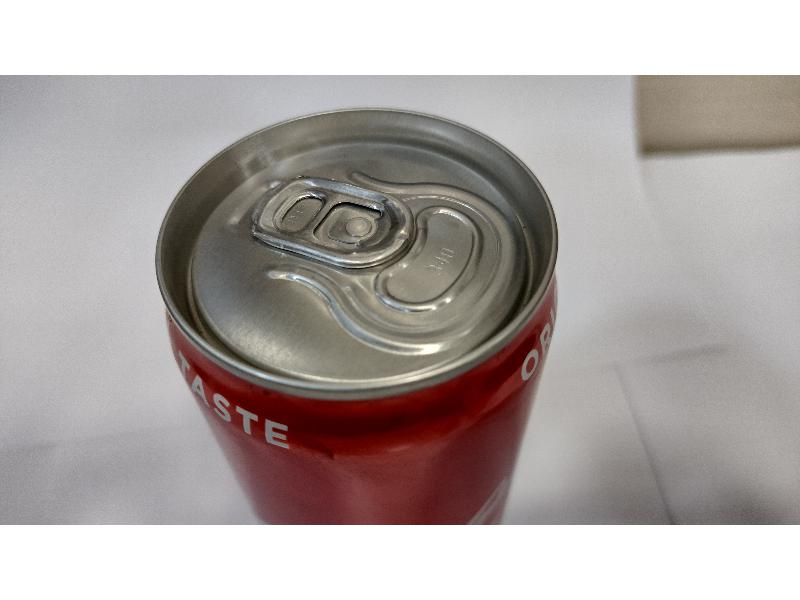can: (153, 103, 562, 526)
